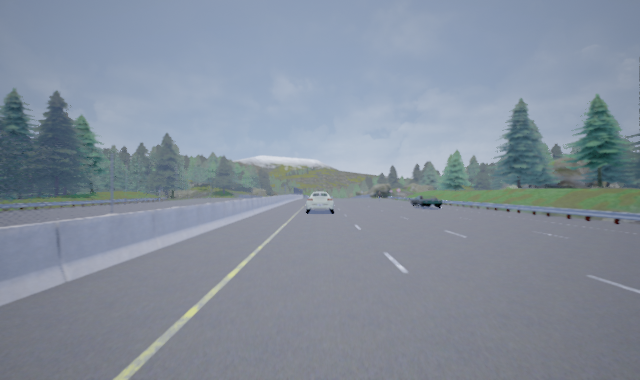vehicle: (305, 191, 334, 214), (410, 195, 442, 209)
